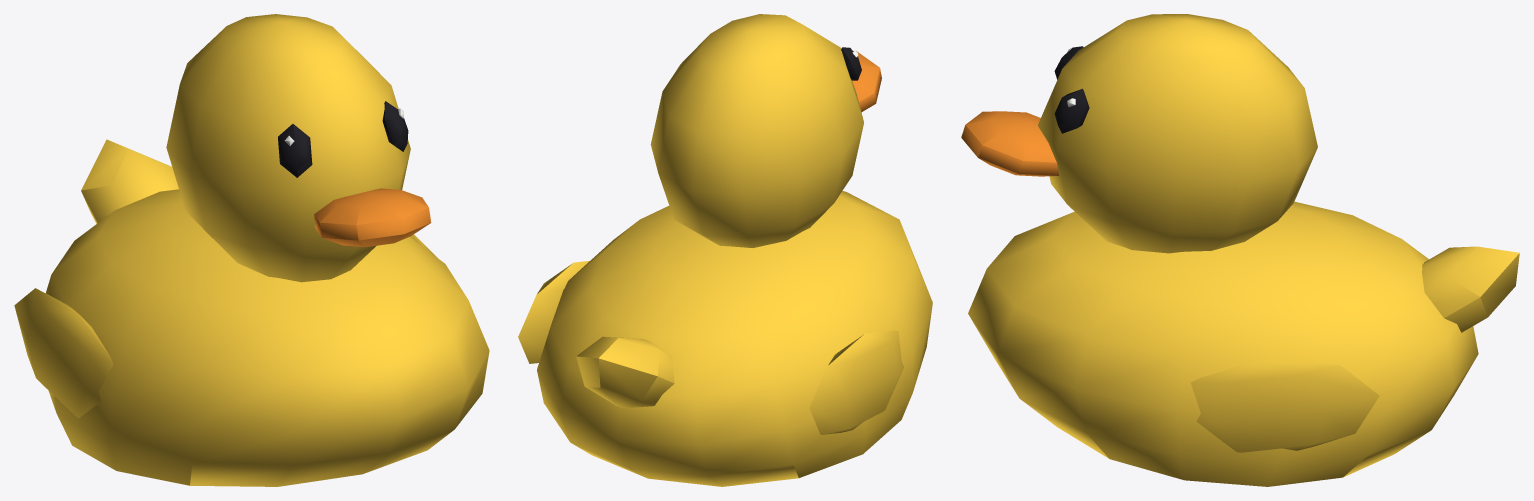
File: GorroPato.fbx
3 renders of one model, left to right at view 1: azimuth 30°, elevation 25°; view 2: azimuth 150°, elevation 25°; view 3: azimuth 270°, elevation 25°, orthographic. The views are drawn at different scales.
Parts seen in each view (by area): view 1: GorroPato; view 2: GorroPato; view 3: GorroPato.
Part boxes in pixels (x1,y1,x2,y2): GorroPato: [14, 14, 489, 486]; GorroPato: [518, 14, 932, 486]; GorroPato: [961, 14, 1519, 486].
Bounding box in the file's own units: 1.77 × 1.96 × 2.48.
1 material, 1 textured.
